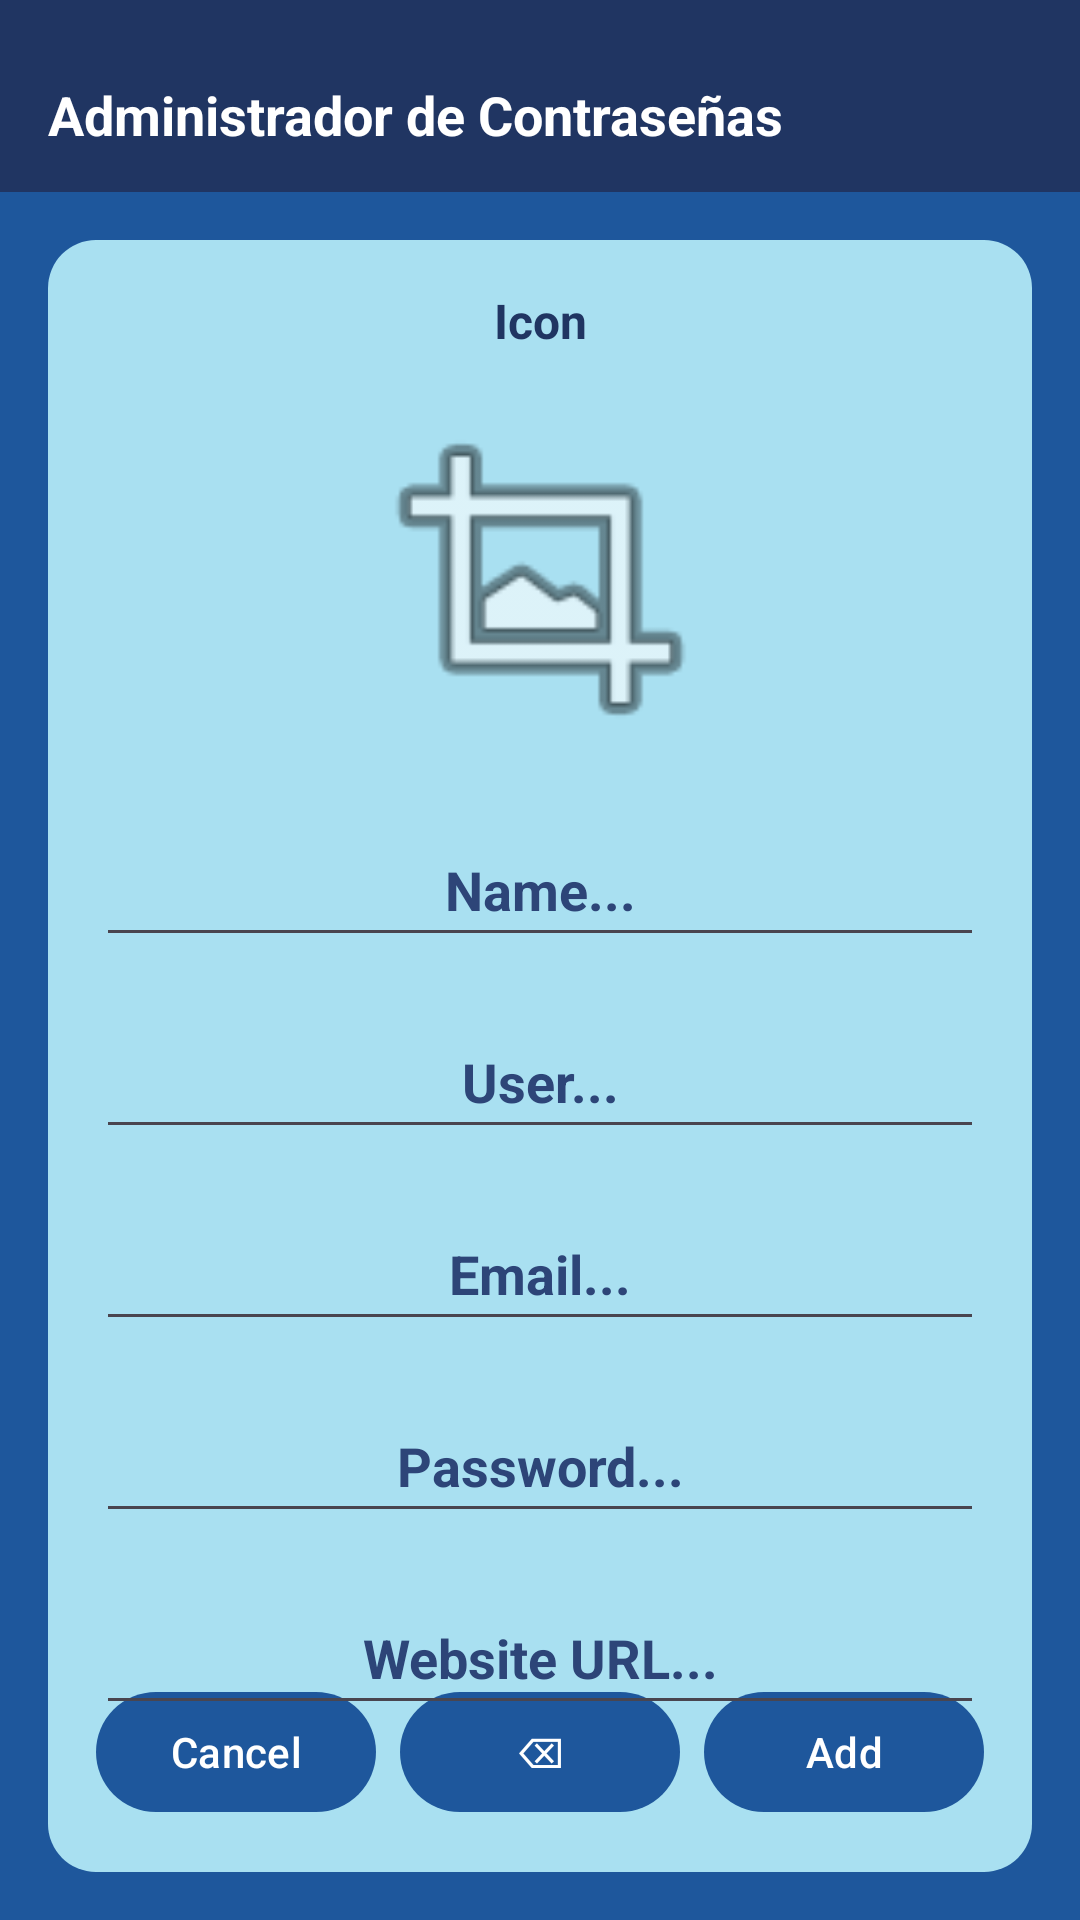

Named icons in this screenshot (1080×1920) and their centers, (x=x, y=y):
crop: (x=540, y=579)
